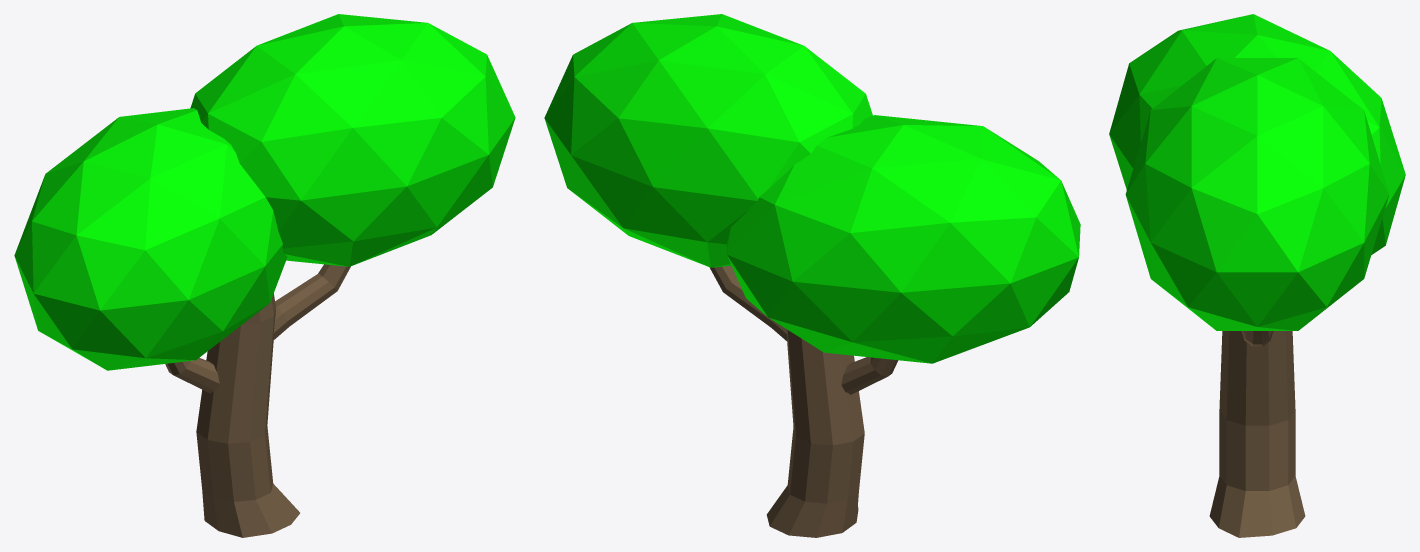
The model's file is tree.glb.
The picture shows the model from 3 angles, left to right: view 1: azimuth 30°, elevation 25°; view 2: azimuth 150°, elevation 25°; view 3: azimuth 270°, elevation 25°; orthographic projection. The views are drawn at different scales.
Visible parts, largest first — view 1: Icosphere.001, Icosphere.002, Icosphere, Icosphere.003, Icosphere.004; view 2: Icosphere.002, Icosphere.001, Icosphere, Icosphere.004, Icosphere.003; view 3: Icosphere.001, Icosphere, Icosphere.002, Icosphere.003.
Boxes of the visible parts, <box> form: Icosphere.001: <box>190,14,515,266</box>; Icosphere.002: <box>14,108,287,370</box>; Icosphere: <box>196,293,299,537</box>; Icosphere.003: <box>273,264,350,339</box>; Icosphere.004: <box>165,358,219,393</box>; Icosphere.002: <box>726,115,1080,363</box>; Icosphere.001: <box>544,14,872,267</box>; Icosphere: <box>766,329,864,537</box>; Icosphere.004: <box>841,357,898,394</box>; Icosphere.003: <box>709,266,787,341</box>; Icosphere.001: <box>1125,58,1389,330</box>; Icosphere: <box>1209,331,1305,537</box>; Icosphere.002: <box>1109,14,1405,254</box>; Icosphere.003: <box>1241,331,1273,346</box>.
Size of the model in its own units: 12.3 by 11.26 by 6.19.
